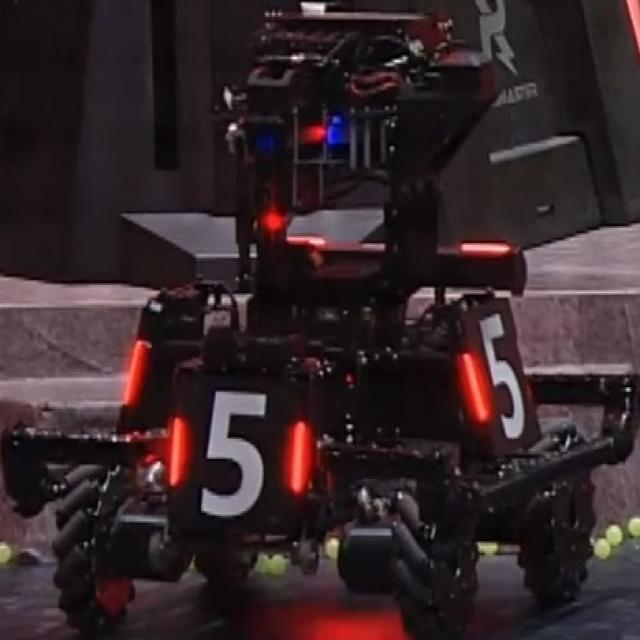R5: (170, 389, 306, 521)
